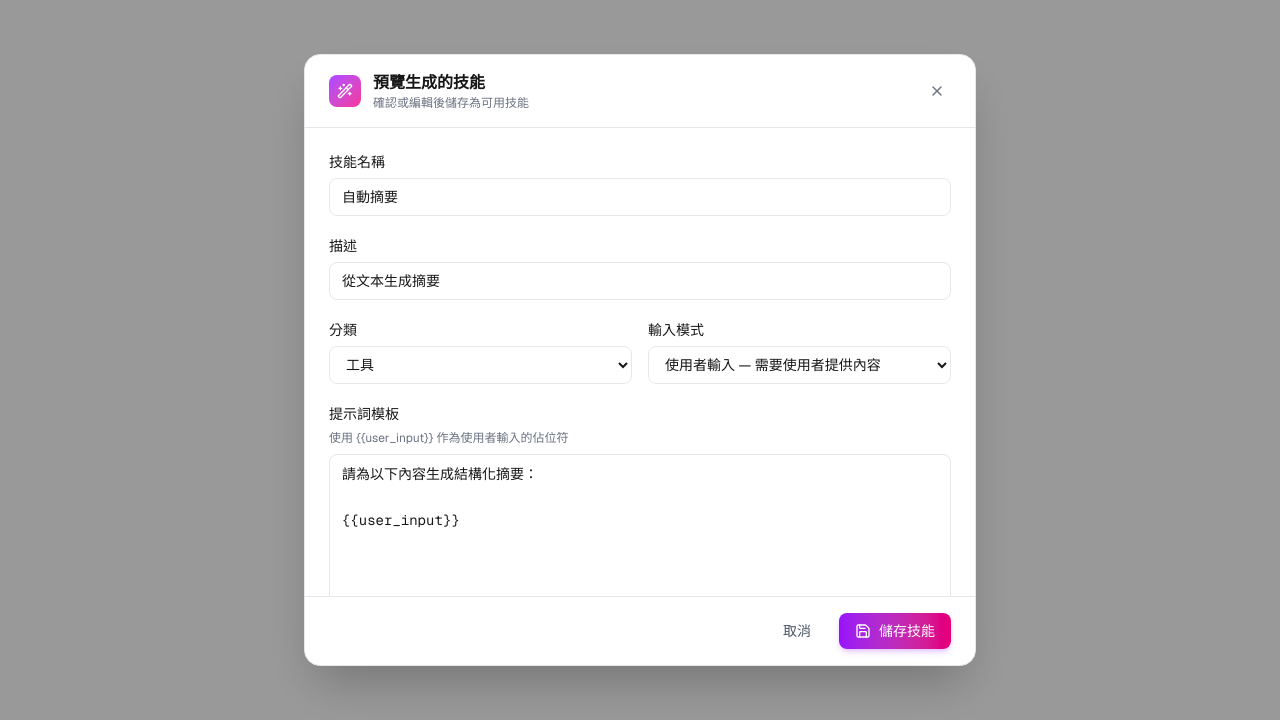
it: SkillPreviewDialog › Skill Config Editor › should disable save button when prompt_template is too short
Replace the text in the text box with test id "skill-prompt-input" with "short". click: [640, 554]
box: [329,454,951,654]
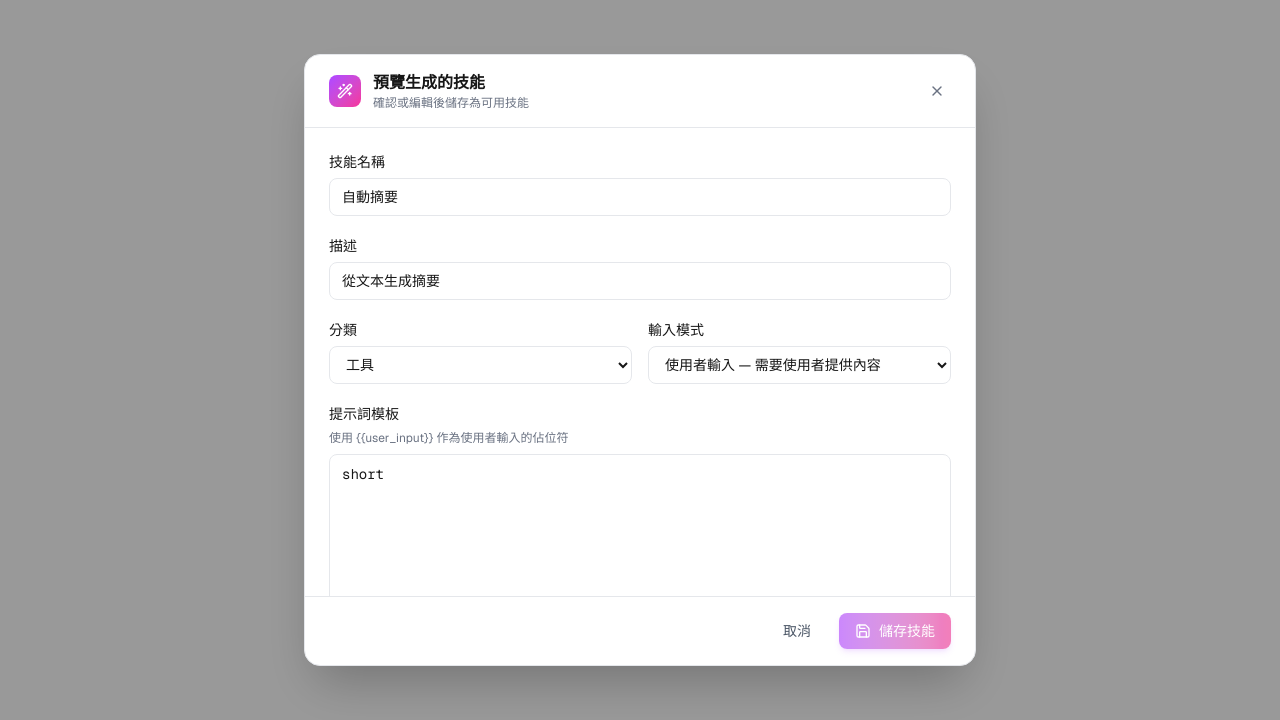
Check: the button with test id "save-skill-btn" is disabled, box [839,613,951,649]
